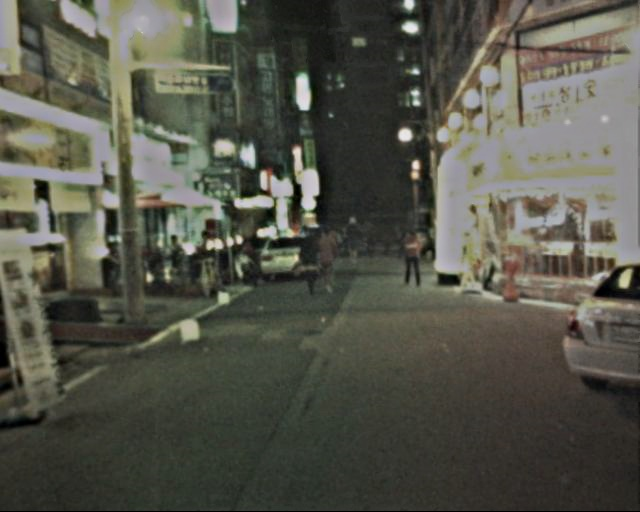person: (295, 226, 326, 299), (314, 223, 343, 297), (400, 225, 428, 289), (341, 213, 365, 265), (361, 217, 380, 263), (380, 229, 397, 259)
